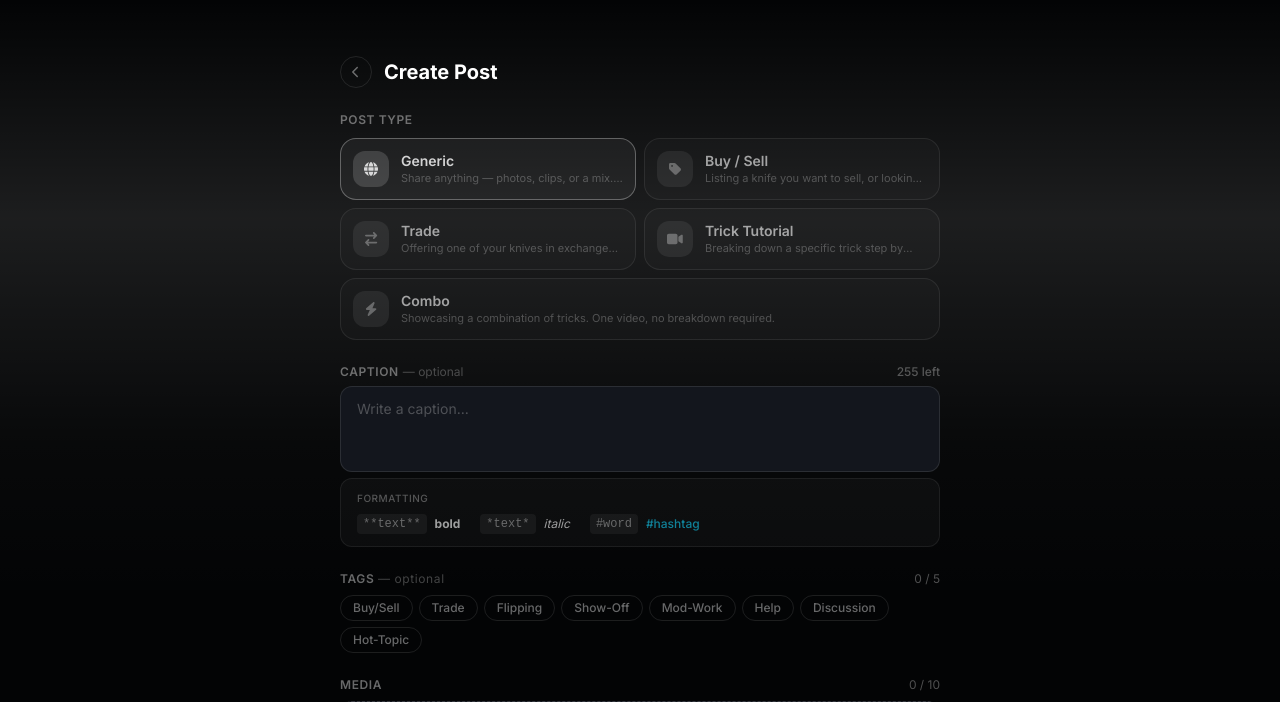
Test case: CreatePostPage — tags › toggling a selected tag off removes it
Click the button "Flipping": click(519, 608) [484, 595, 555, 621]
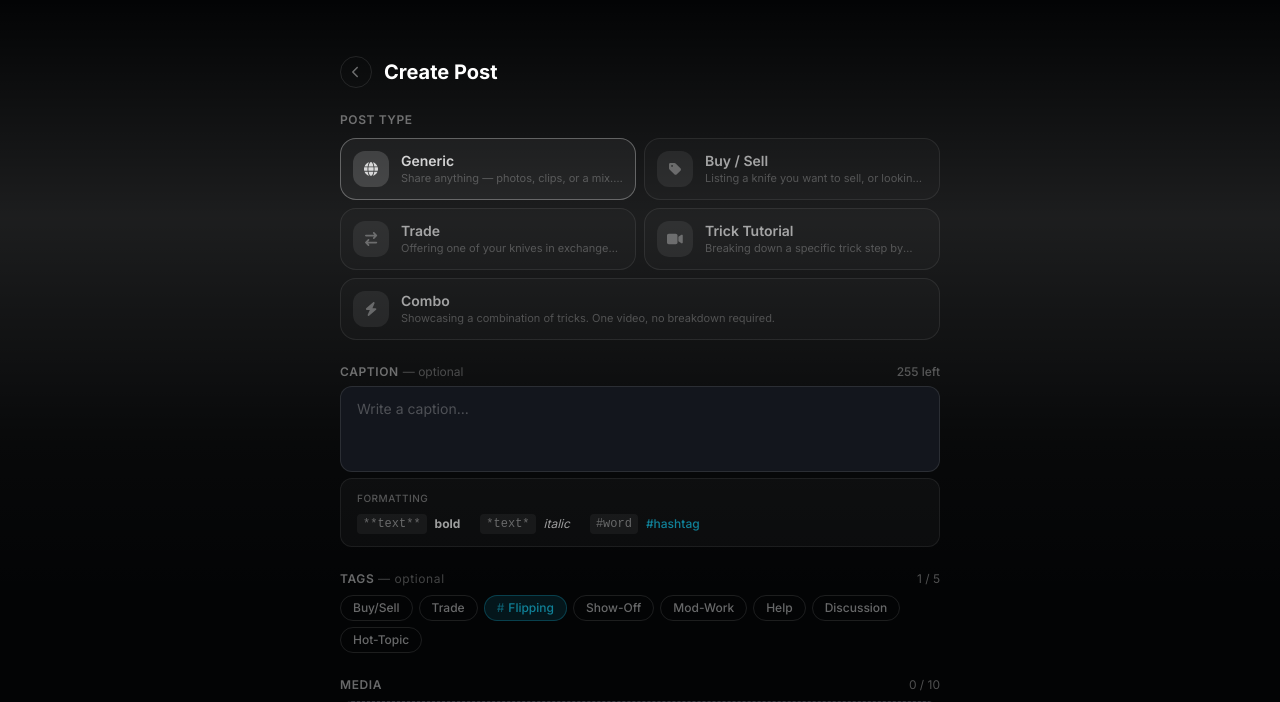
Expected: the button "#Flipping" is shown
Click the button "#Flipping": click(525, 608) [484, 595, 567, 621]
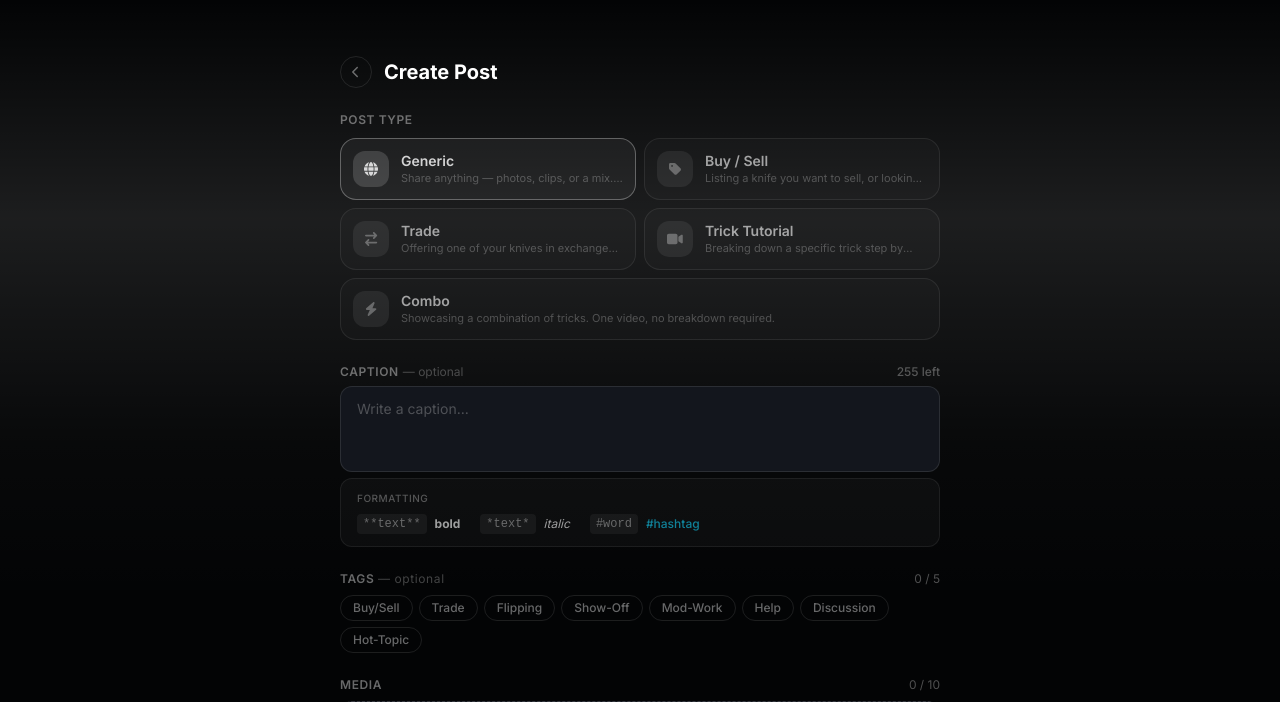
Expected: the button "Flipping" is shown, [484, 595, 555, 621]
Expected: the button "#Flipping" is gone
